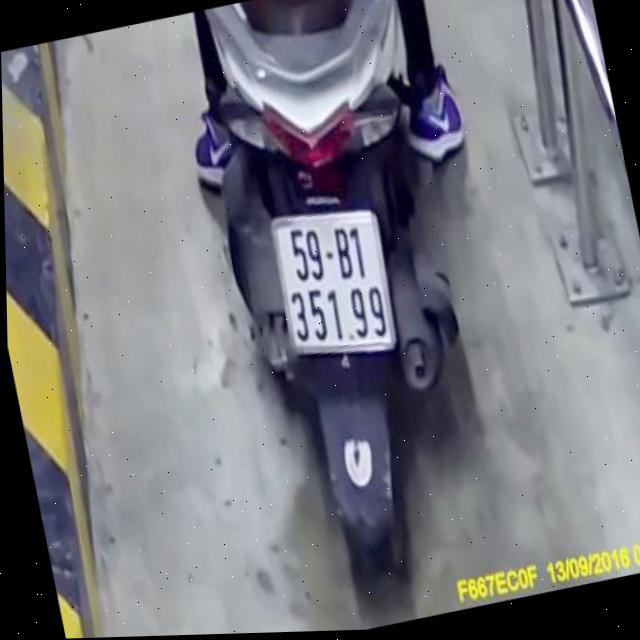motorcycle: (177, 0, 508, 602)
plate: (262, 192, 410, 373)
